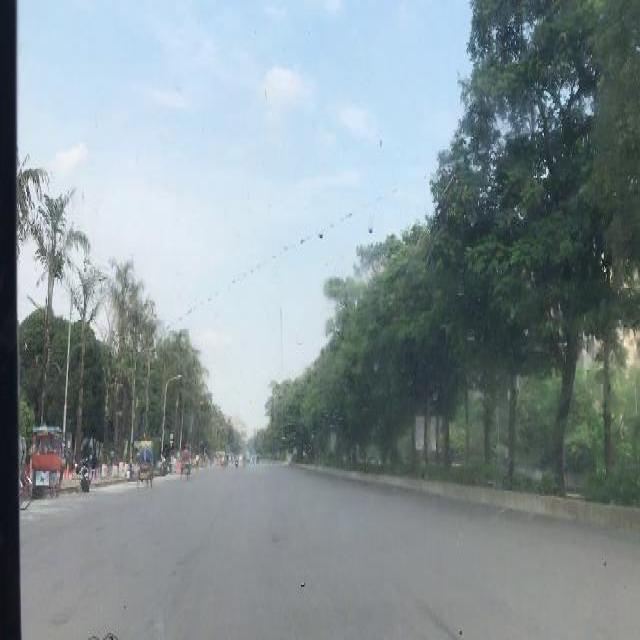motorbike: (74, 451, 92, 492)
rickshaw: (18, 436, 32, 510), (135, 443, 153, 489), (178, 447, 192, 481)
